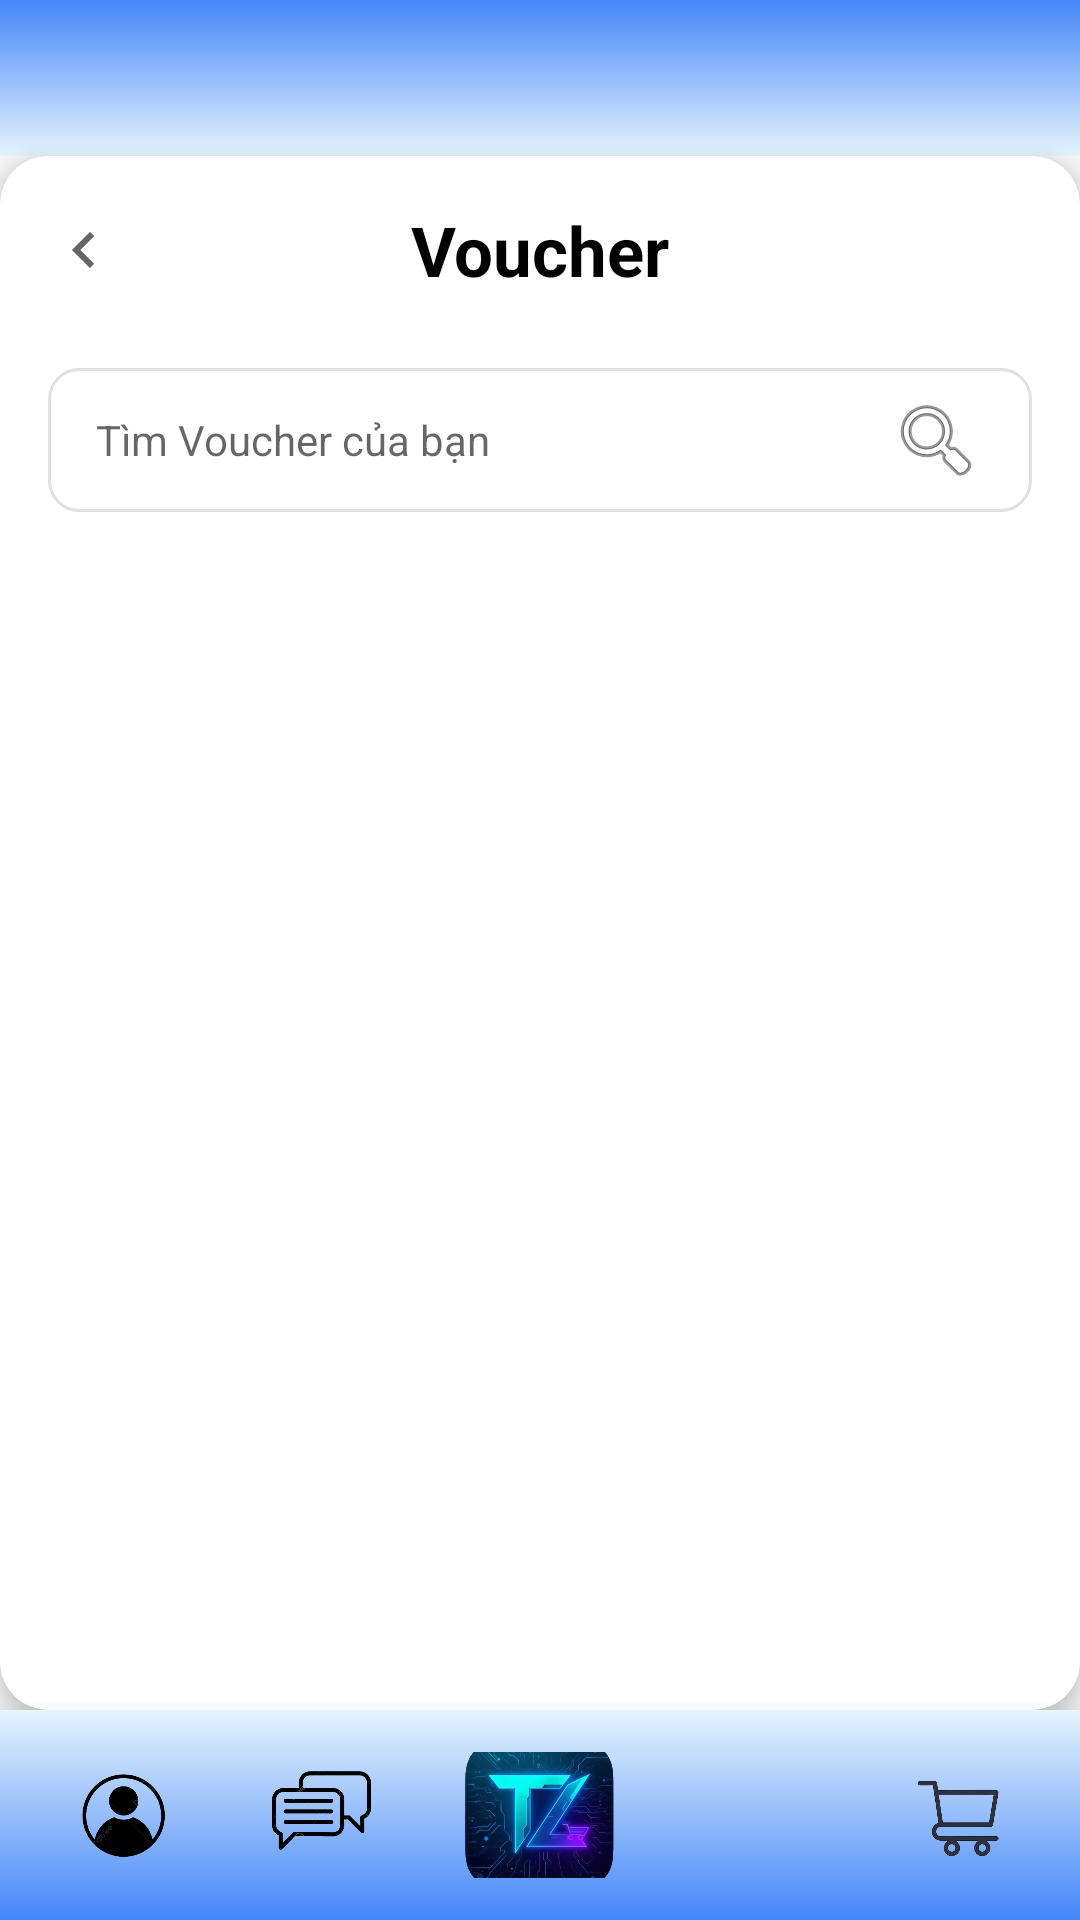

Screen size 1080×1920. Icon name, then its center in pixels as [x,y]:
cart: [956,1815]
